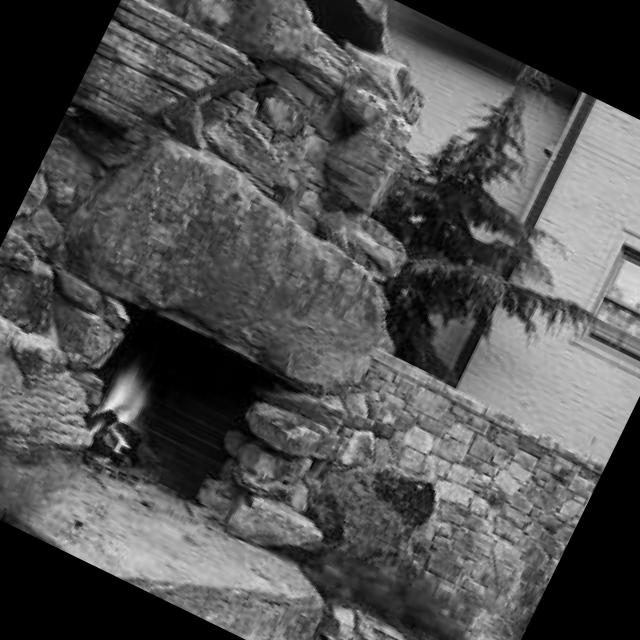fire: (58, 330, 185, 472)
